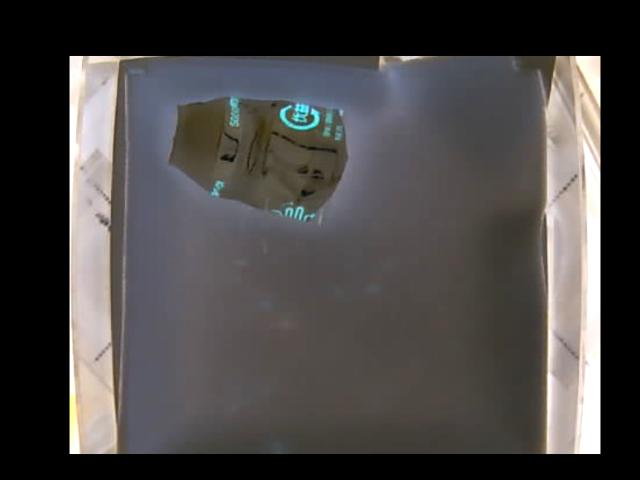Bottle: (170, 94, 348, 222)
